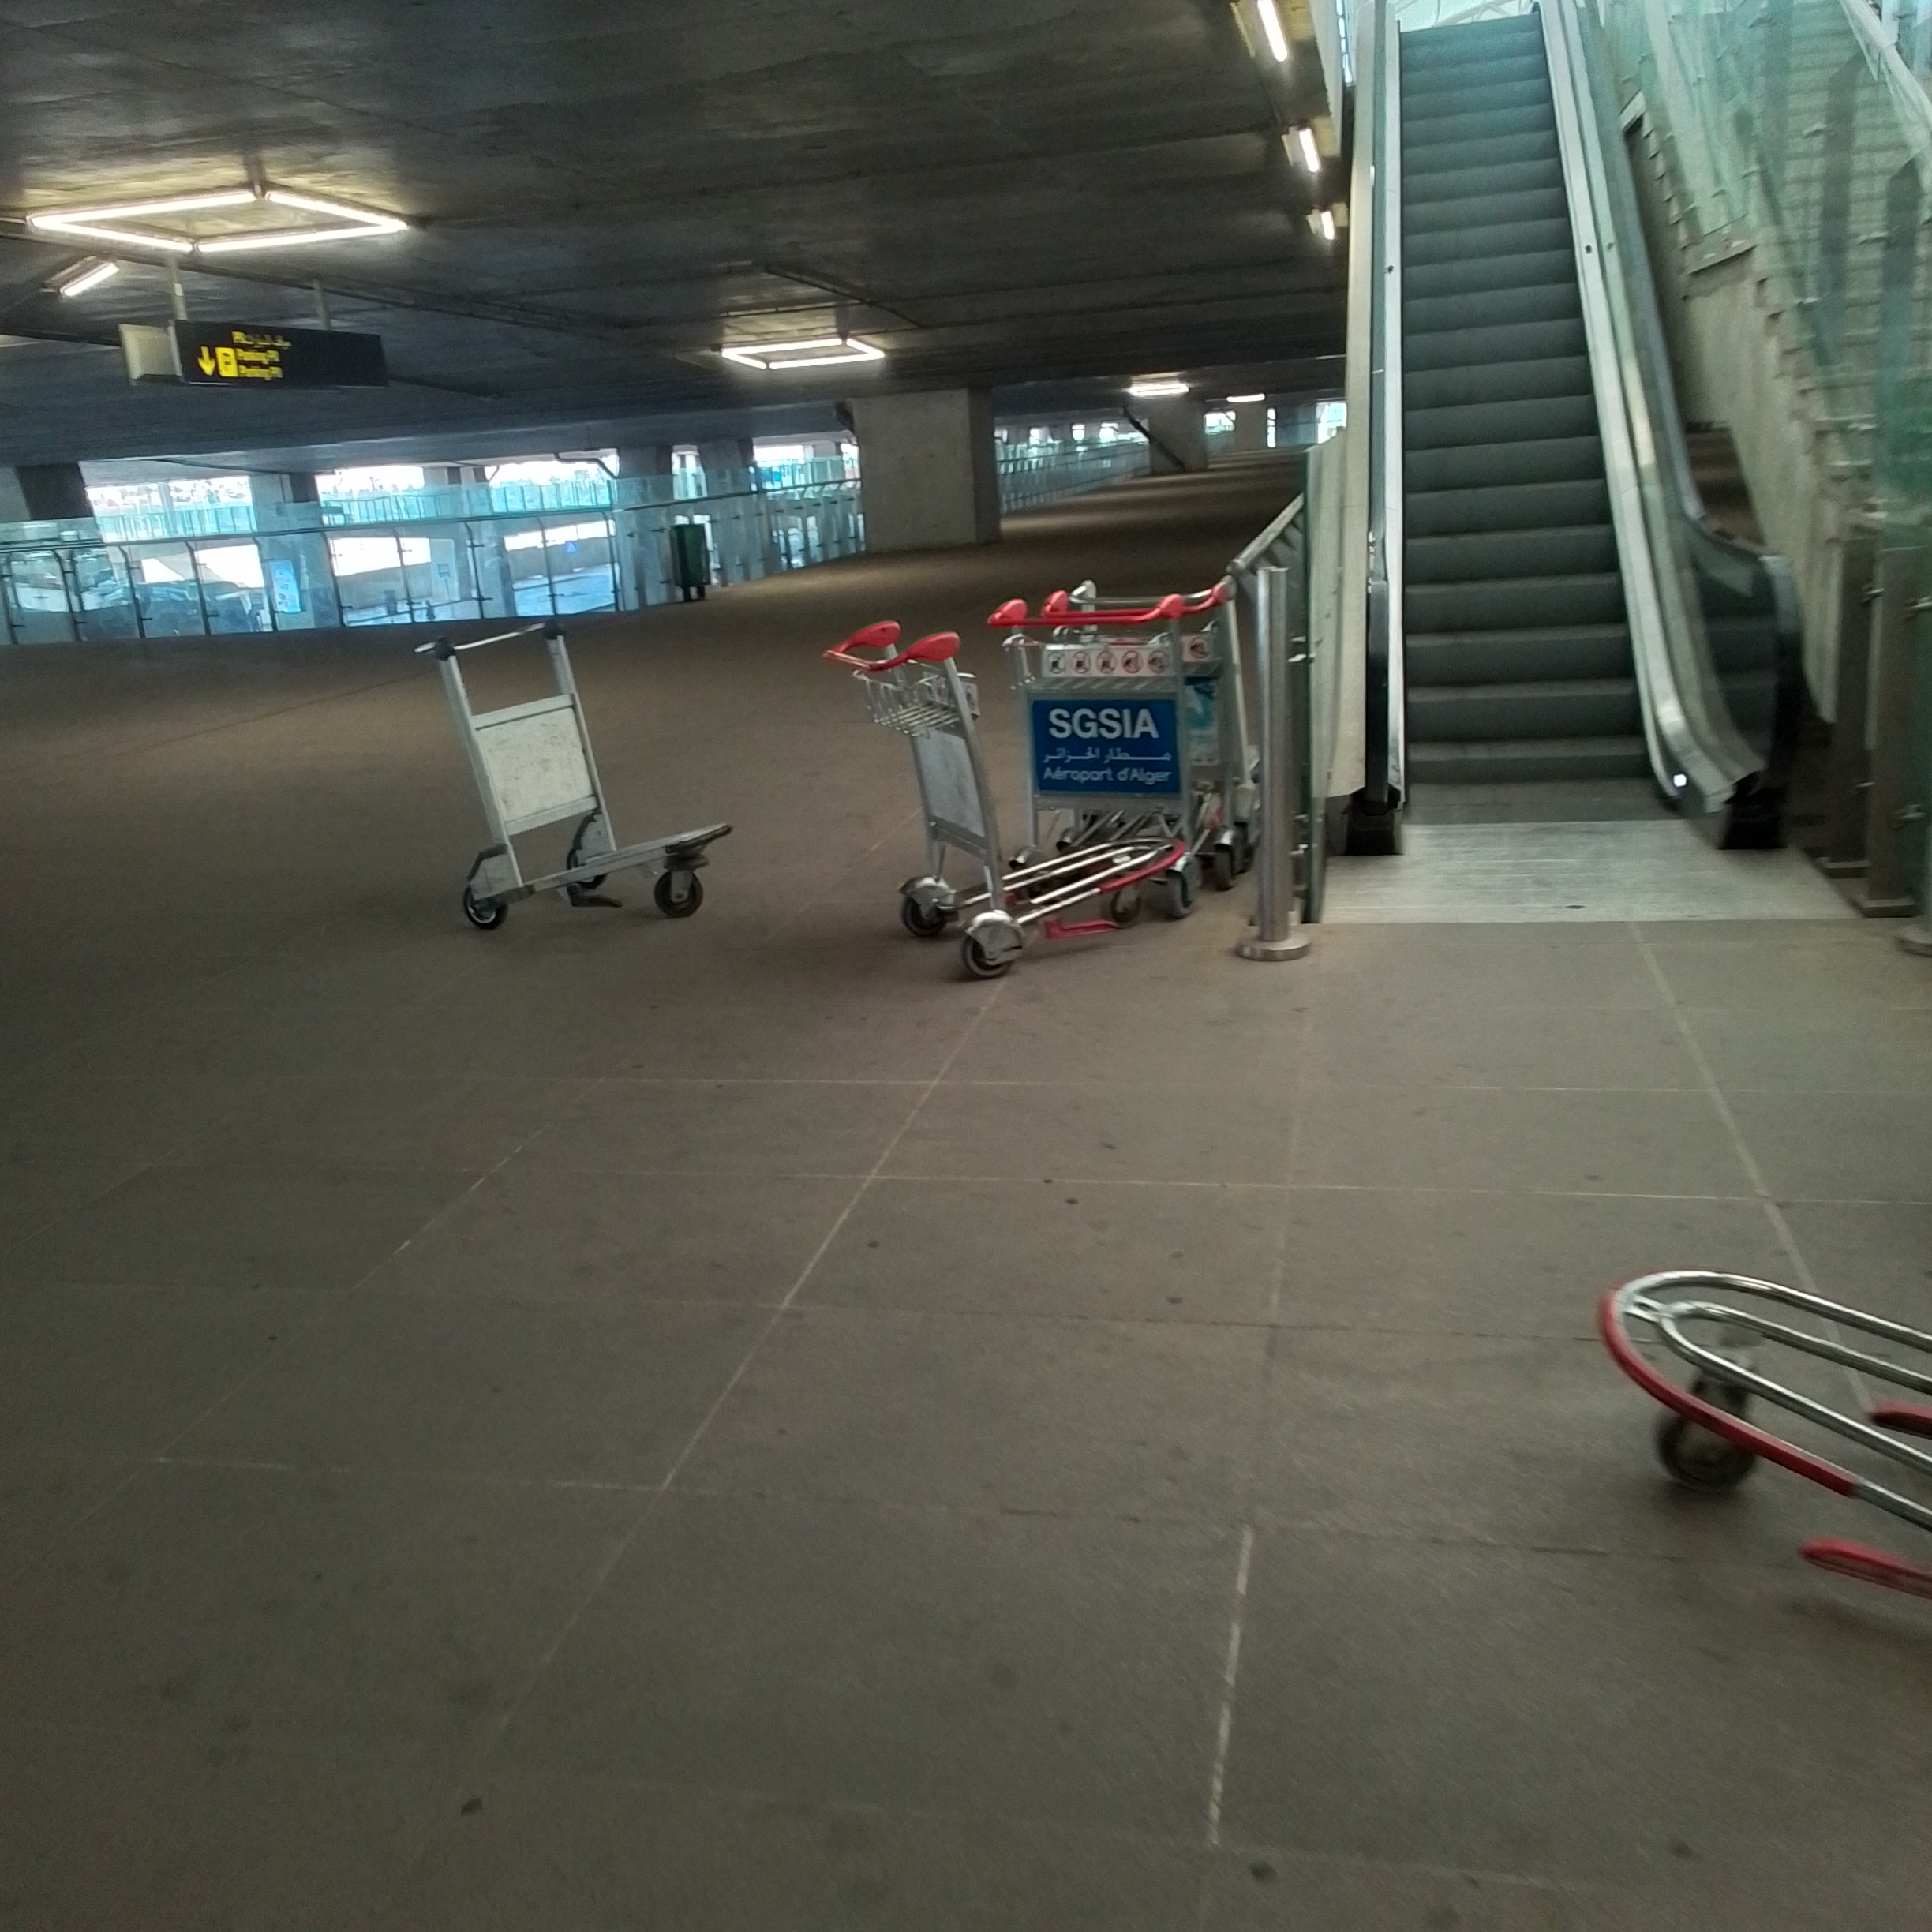airport-trolley: (817, 609, 1184, 959), (410, 614, 734, 938), (985, 563, 1219, 904)
